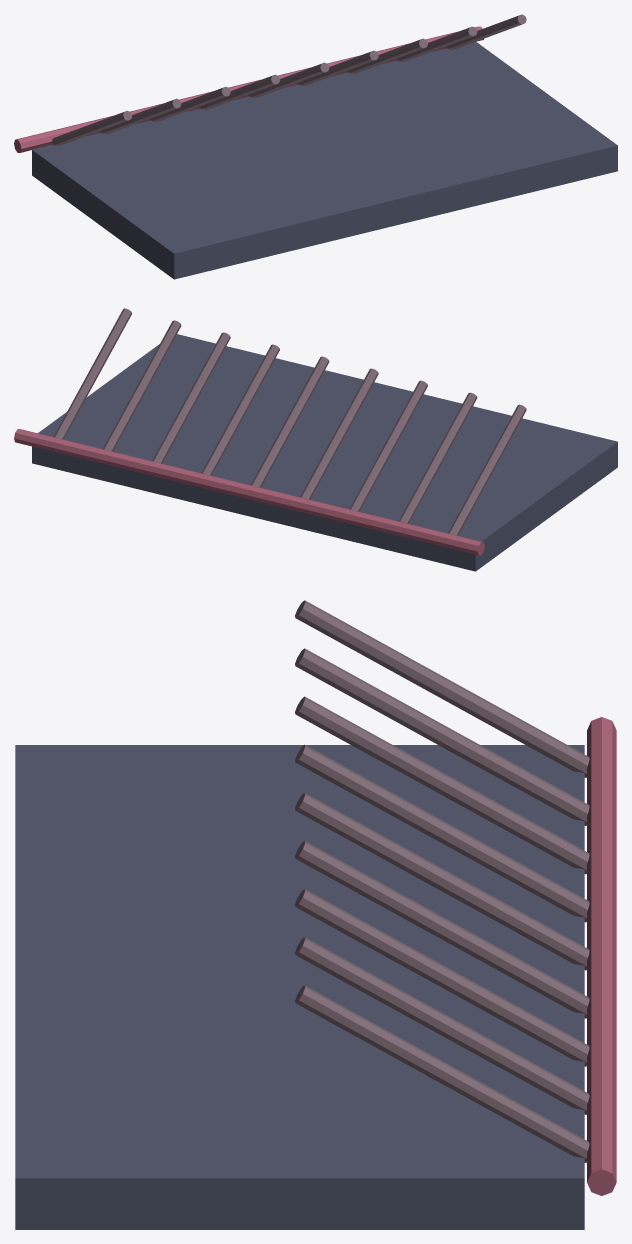
Rendered from dojo_curved_roof_lod1.glb.
3 renders of one model, top to bottom at view 1: azimuth 30°, elevation 25°; view 2: azimuth 150°, elevation 25°; view 3: azimuth 270°, elevation 25°, orthographic. The views are drawn at different scales.
Visible parts, largest first — view 1: dojo_curved_roof_000, dojo_curved_roof_010, dojo_curved_roof_001, dojo_curved_roof_008, dojo_curved_roof_003, dojo_curved_roof_004, dojo_curved_roof_006, dojo_curved_roof_009, dojo_curved_roof_002, dojo_curved_roof_005, dojo_curved_roof_007; view 2: dojo_curved_roof_000, dojo_curved_roof_010, dojo_curved_roof_005, dojo_curved_roof_003, dojo_curved_roof_008, dojo_curved_roof_002, dojo_curved_roof_006, dojo_curved_roof_007, dojo_curved_roof_004, dojo_curved_roof_009, dojo_curved_roof_001; view 3: dojo_curved_roof_000, dojo_curved_roof_010, dojo_curved_roof_005, dojo_curved_roof_004, dojo_curved_roof_001, dojo_curved_roof_003, dojo_curved_roof_007, dojo_curved_roof_009, dojo_curved_roof_006, dojo_curved_roof_008, dojo_curved_roof_002.
Part boxes in pixels (x1=…): dojo_curved_roof_000: x1=32, y1=42, x2=617, y2=279; dojo_curved_roof_010: x1=14, y1=26, x2=483, y2=152; dojo_curved_roof_001: x1=51, y1=110, x2=131, y2=146; dojo_curved_roof_008: x1=396, y1=26, x2=477, y2=61; dojo_curved_roof_003: x1=150, y1=86, x2=230, y2=122; dojo_curved_roof_004: x1=199, y1=74, x2=279, y2=110; dojo_curved_roof_006: x1=297, y1=50, x2=378, y2=85; dojo_curved_roof_009: x1=445, y1=14, x2=526, y2=49; dojo_curved_roof_002: x1=100, y1=98, x2=181, y2=133; dojo_curved_roof_005: x1=248, y1=62, x2=329, y2=97; dojo_curved_roof_007: x1=347, y1=38, x2=427, y2=73; dojo_curved_roof_000: x1=32, y1=334, x2=617, y2=571; dojo_curved_roof_010: x1=14, y1=429, x2=484, y2=555; dojo_curved_roof_005: x1=251, y1=356, x2=329, y2=487; dojo_curved_roof_003: x1=349, y1=380, x2=427, y2=511; dojo_curved_roof_008: x1=103, y1=320, x2=181, y2=451; dojo_curved_roof_002: x1=399, y1=392, x2=477, y2=523; dojo_curved_roof_006: x1=201, y1=344, x2=279, y2=475; dojo_curved_roof_007: x1=152, y1=332, x2=230, y2=463; dojo_curved_roof_004: x1=300, y1=368, x2=378, y2=499; dojo_curved_roof_009: x1=53, y1=308, x2=131, y2=439; dojo_curved_roof_001: x1=448, y1=404, x2=526, y2=535; dojo_curved_roof_000: x1=15, y1=745, x2=584, y2=1229; dojo_curved_roof_010: x1=587, y1=717, x2=616, y2=1195; dojo_curved_roof_005: x1=295, y1=792, x2=589, y2=970; dojo_curved_roof_004: x1=295, y1=744, x2=589, y2=922; dojo_curved_roof_001: x1=295, y1=600, x2=589, y2=777; dojo_curved_roof_003: x1=295, y1=696, x2=589, y2=874; dojo_curved_roof_007: x1=295, y1=889, x2=589, y2=1066; dojo_curved_roof_009: x1=295, y1=985, x2=589, y2=1162; dojo_curved_roof_006: x1=295, y1=841, x2=589, y2=1018; dojo_curved_roof_008: x1=295, y1=937, x2=589, y2=1114; dojo_curved_roof_002: x1=295, y1=648, x2=589, y2=825.
Size of the model in its own units: 9.4 by 2.12 by 5.28.
